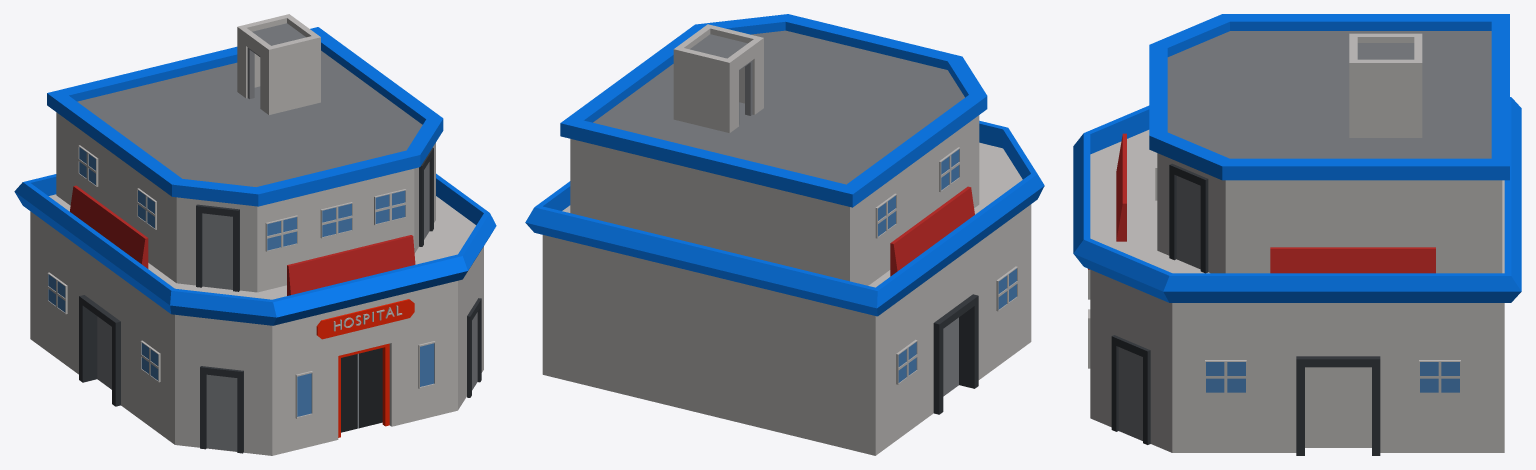
File: Hospital_1.fbx
3 renders of one model, left to right at view 1: azimuth 30°, elevation 25°; view 2: azimuth 150°, elevation 25°; view 3: azimuth 270°, elevation 25°, orthographic. The views are drawn at different scales.
Visible parts, largest first — view 1: Hospital_1; view 2: Hospital_1; view 3: Hospital_1.
Boxes of the visible parts, x1,y1,x2,y2 form: Hospital_1: (14, 14, 496, 455); Hospital_1: (525, 14, 1044, 455); Hospital_1: (1073, 14, 1521, 455).
Bounding box in the file's own units: 1362 × 1183 × 1407.
